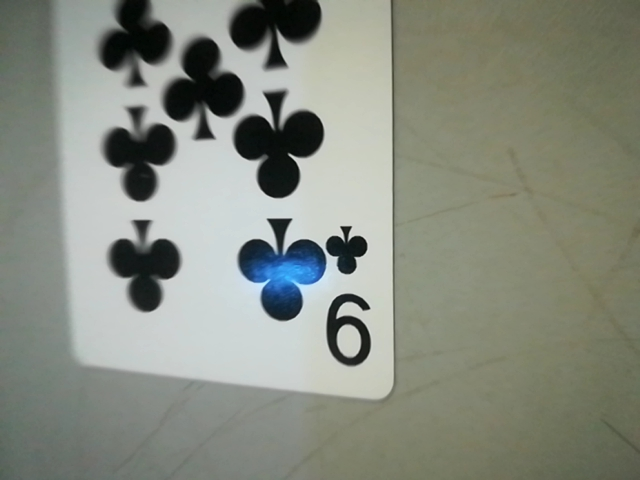mh 9: (317, 216, 389, 382)
